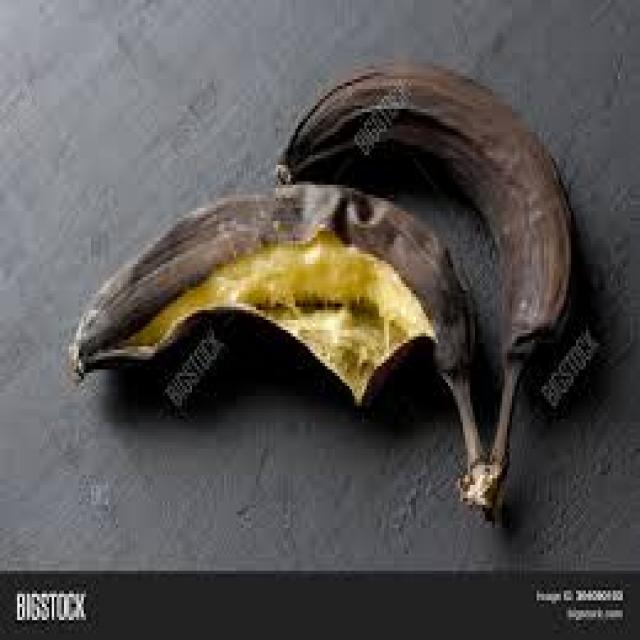organic waste: (66, 178, 485, 508), (273, 63, 574, 518)
